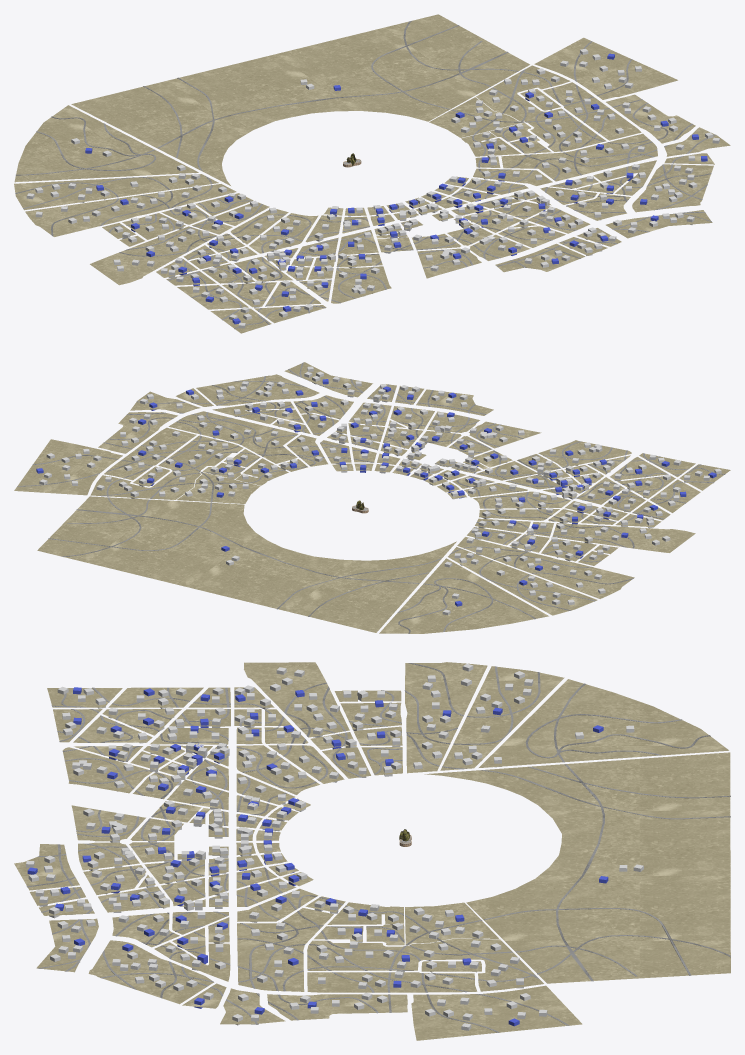
Rendered from publicNurseries.glb.
3 views of the same model, one above another, from view 1: azimuth 30°, elevation 25°; view 2: azimuth 150°, elevation 25°; view 3: azimuth 270°, elevation 25° (orthographic). The views are drawn at different scales.
Visible parts, largest first — view 1: ground_publicNurseries_81, ground_publicNurseries_82, ground_publicNurseries_93, ground_publicNurseries_49, ground_publicNurseries_76, ground_publicNurseries_48, ground_publicNurseries_68, ground_publicNurseries_53, ground_publicNurseries_83, ground_publicNurseries_78, streets_publicNurseries_81, ground_publicNurseries_92 (+27 smaller); view 2: ground_publicNurseries_81, ground_publicNurseries_82, ground_publicNurseries_93, ground_publicNurseries_49, ground_publicNurseries_76, ground_publicNurseries_48, ground_publicNurseries_68, ground_publicNurseries_53, ground_publicNurseries_83, streets_publicNurseries_81, ground_publicNurseries_78, ground_publicNurseries_92 (+26 smaller); view 3: ground_publicNurseries_81, ground_publicNurseries_82, ground_publicNurseries_93, ground_publicNurseries_49, ground_publicNurseries_76, ground_publicNurseries_48, ground_publicNurseries_68, ground_publicNurseries_53, ground_publicNurseries_83, ground_publicNurseries_78, streets_publicNurseries_81, ground_publicNurseries_92 (+36 smaller).
Boxes of the visible parts, x1,y1,x2,y2 form: ground_publicNurseries_81: (71,14,529,185); ground_publicNurseries_82: (14,105,198,182); ground_publicNurseries_93: (534,37,677,99); ground_publicNurseries_49: (25,184,236,236); ground_publicNurseries_76: (476,65,606,151); ground_publicNurseries_48: (14,174,218,210); ground_publicNurseries_68: (501,133,657,181); ground_publicNurseries_53: (90,226,216,285); ground_publicNurseries_83: (632,164,713,212); ground_publicNurseries_78: (543,82,641,140); streets_publicNurseries_81: (143,21,518,170); ground_publicNurseries_92: (606,94,695,143); ground_publicNurseries_81: (37,496,456,632); ground_publicNurseries_82: (379,558,548,633); ground_publicNurseries_93: (14,439,122,495); ground_publicNurseries_49: (457,537,634,598); ground_publicNurseries_76: (90,435,243,499); ground_publicNurseries_48: (448,547,597,615); ground_publicNurseries_68: (168,411,298,463); ground_publicNurseries_53: (552,523,695,552); ground_publicNurseries_83: (196,374,319,405); streets_publicNurseries_81: (48,497,441,616); ground_publicNurseries_78: (104,427,196,480); ground_publicNurseries_92: (98,412,177,453); ground_publicNurseries_81: (424,752,730,983); ground_publicNurseries_82: (479,679,728,767); ground_publicNurseries_93: (411,985,582,1040); ground_publicNurseries_49: (405,662,487,773); ground_publicNurseries_76: (307,939,543,991); ground_publicNurseries_48: (440,666,564,770); ground_publicNurseries_68: (237,908,333,991); ground_publicNurseries_53: (244,662,349,737); ground_publicNurseries_83: (88,940,213,1004); ground_publicNurseries_78: (307,972,477,992); streets_publicNurseries_81: (480,764,730,981); ground_publicNurseries_92: (267,994,407,1020).
Size of the model in its own units: 11.64 by 0.2584 by 9.31.
12 materials, 11 textured.
